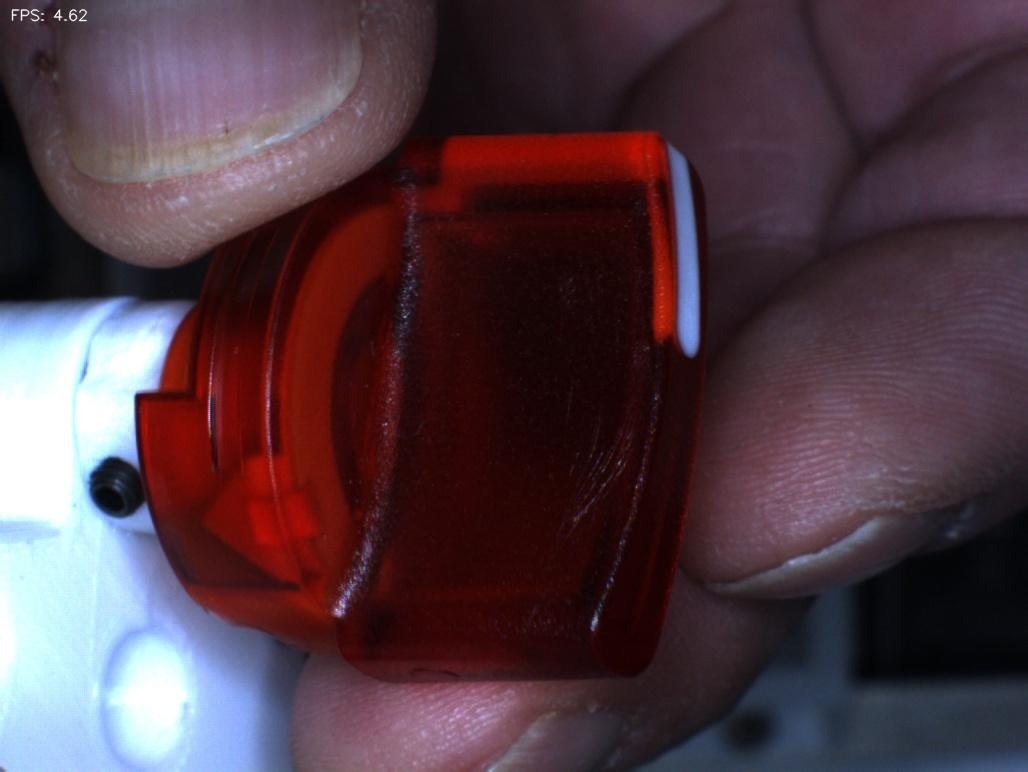Givrage: (548, 332, 635, 537)
